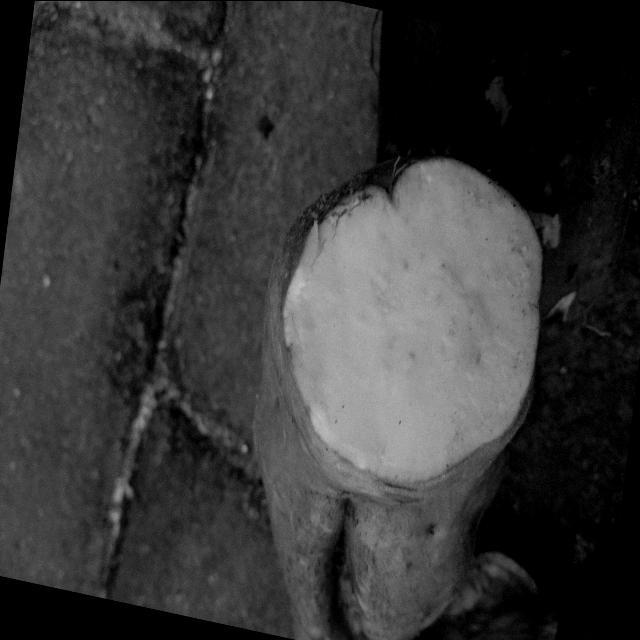Healthy Sweet Potato: (285, 157, 541, 480)
